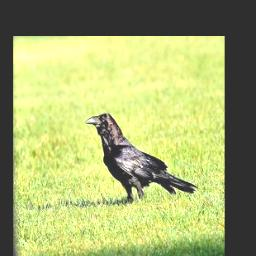Crow: (83, 111, 198, 205)
